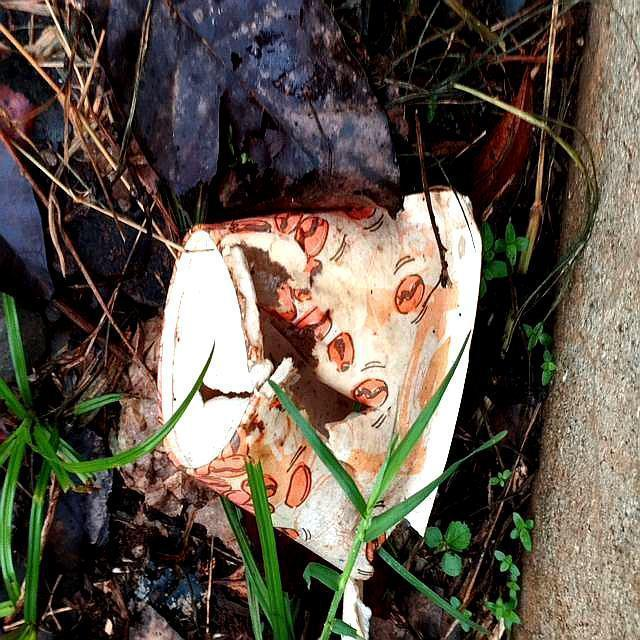Biodegradable: (159, 189, 479, 571)
